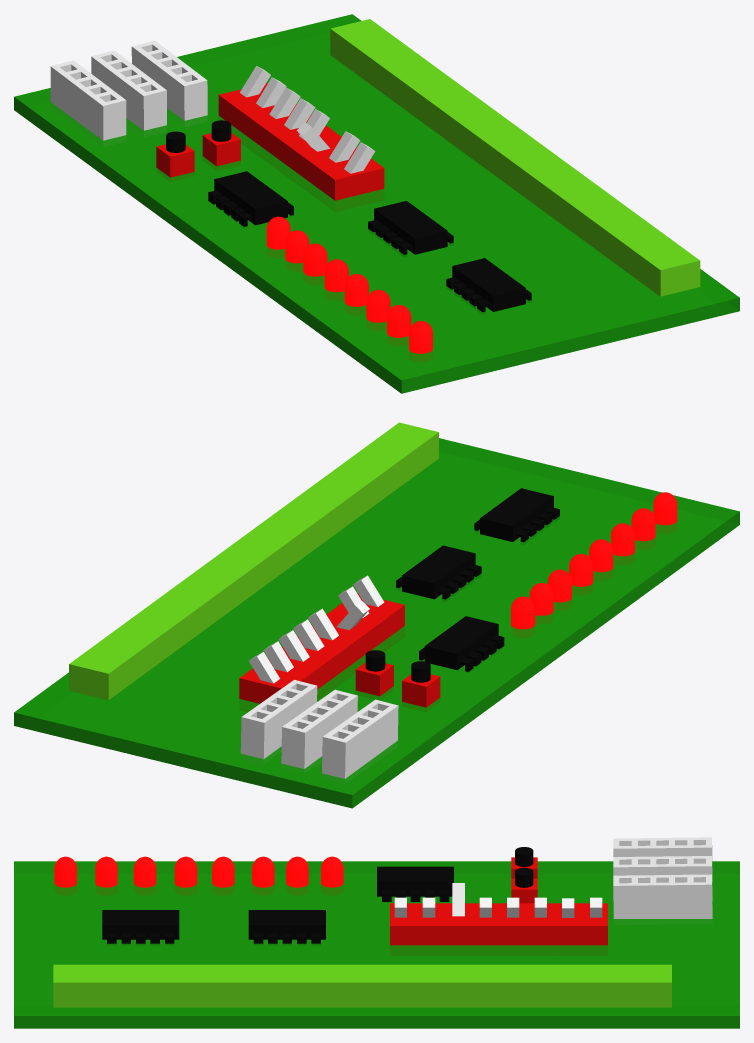
File: IOBoredV3.fbx
3 renders of one model, top to bottom at view 1: azimuth 30°, elevation 25°; view 2: azimuth 150°, elevation 25°; view 3: azimuth 270°, elevation 25°, orthographic. The views are drawn at different scales.
Visible parts, largest first — view 1: Board, Input 1; view 2: Board, Input 1; view 3: Board, Input 1, Switch.002, Button, Button.003.
Part boxes in pixels (box(x1,y1,x2,y2)): Board: box(14, 14, 739, 393); Input 1: box(330, 19, 700, 296); Board: box(14, 438, 739, 808); Input 1: box(69, 422, 438, 699); Board: box(14, 837, 739, 1028); Input 1: box(53, 964, 671, 1007); Switch.002: box(452, 883, 464, 916); Button: box(515, 867, 533, 887); Button.003: box(515, 847, 533, 866).
Size of the model in its own units: 328 by 55.96 by 650.
